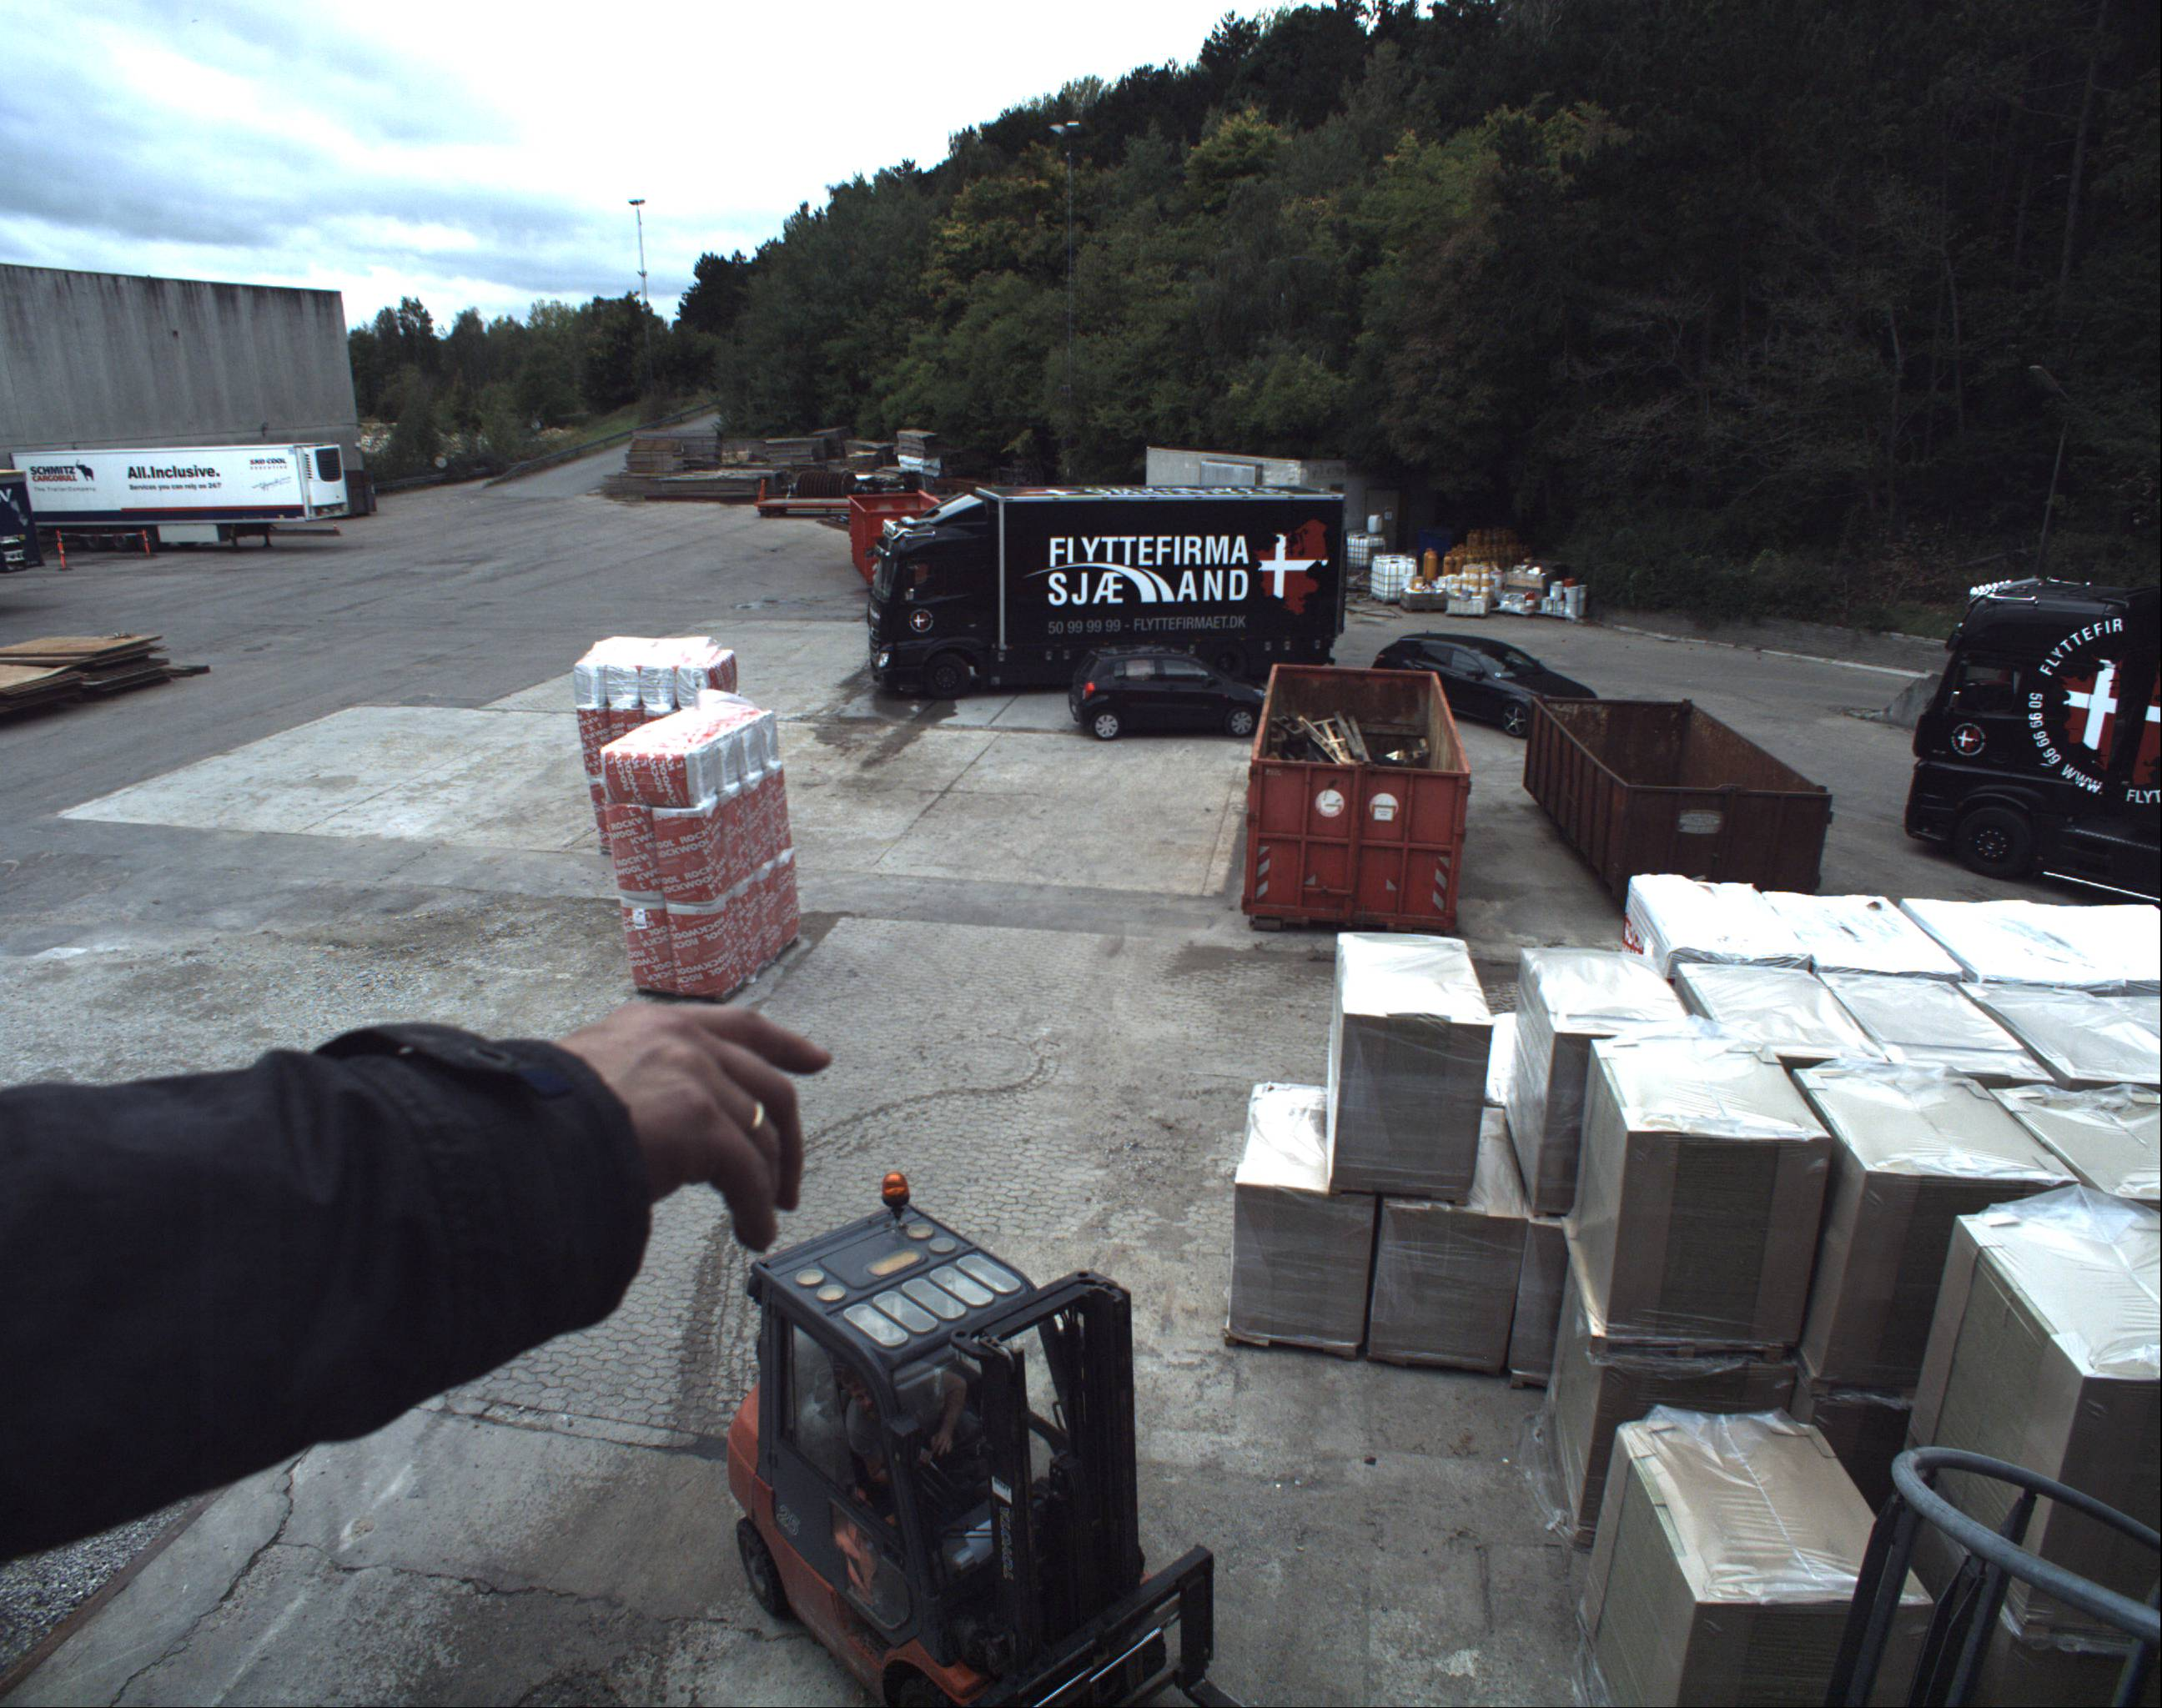rockwool_batts: (600, 693, 804, 990), (570, 621, 732, 799)
